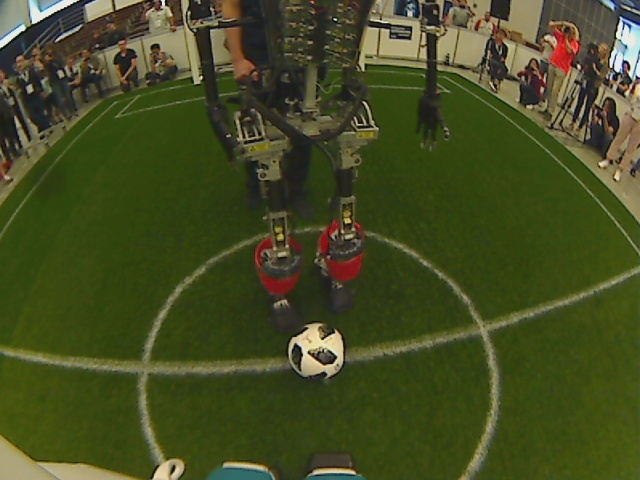ball: (284, 319, 346, 382)
